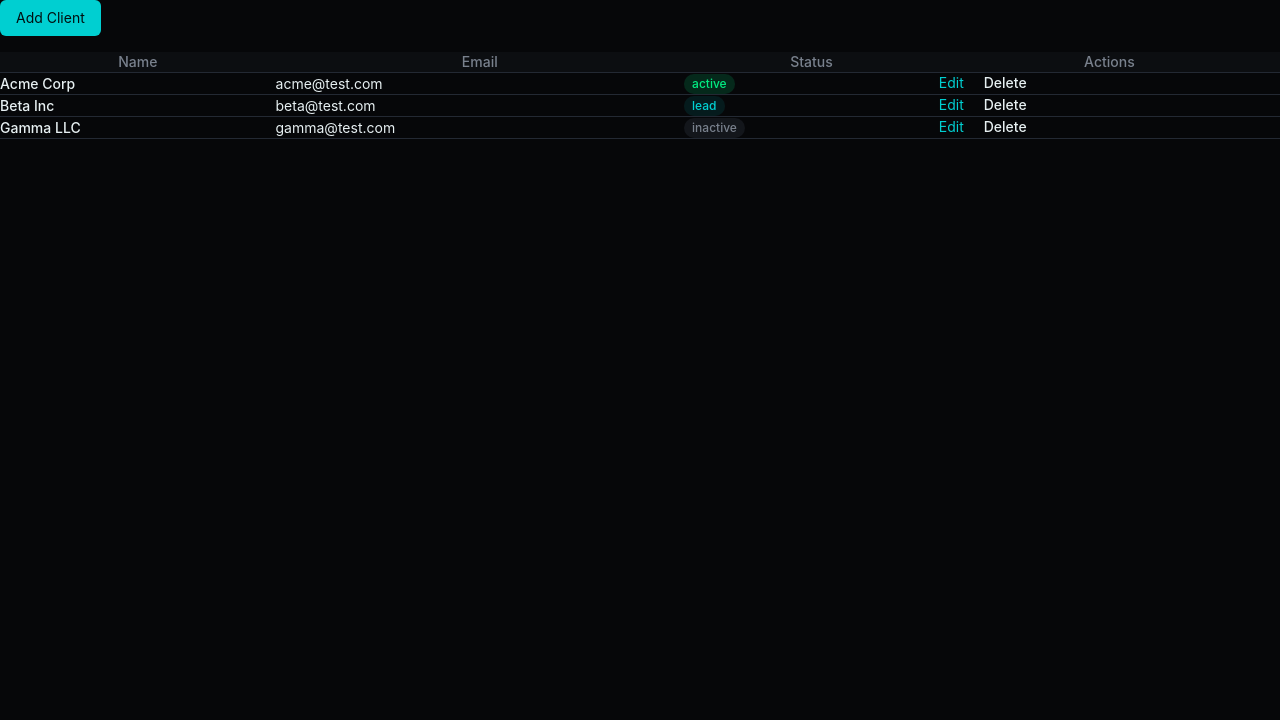
Test: ClientList › delete confirmation › should show confirmation dialog when delete button is clicked
Click the button "Delete" in the row of "Acme Corp".
click(1005, 83)  # box left=972, top=73, right=1039, bottom=93
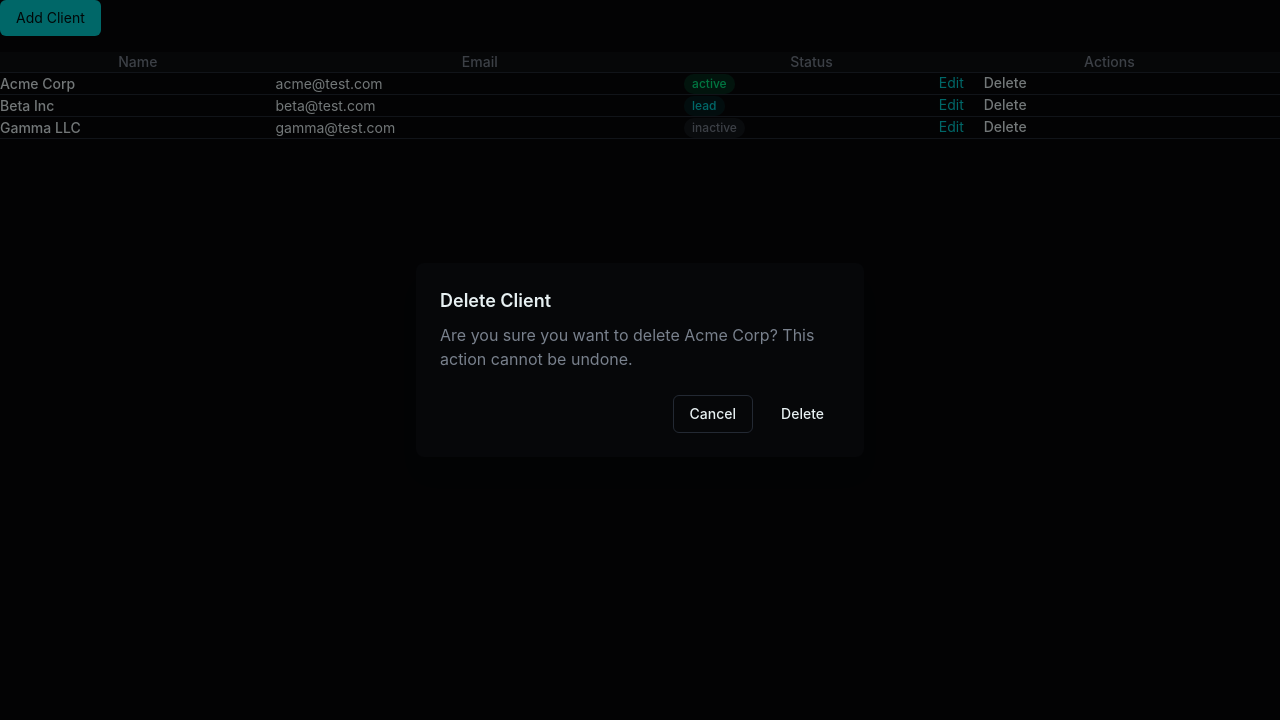
Result: the text "Are you sure you want to delete Acme Corp" is shown at left=440, top=325, right=814, bottom=369
